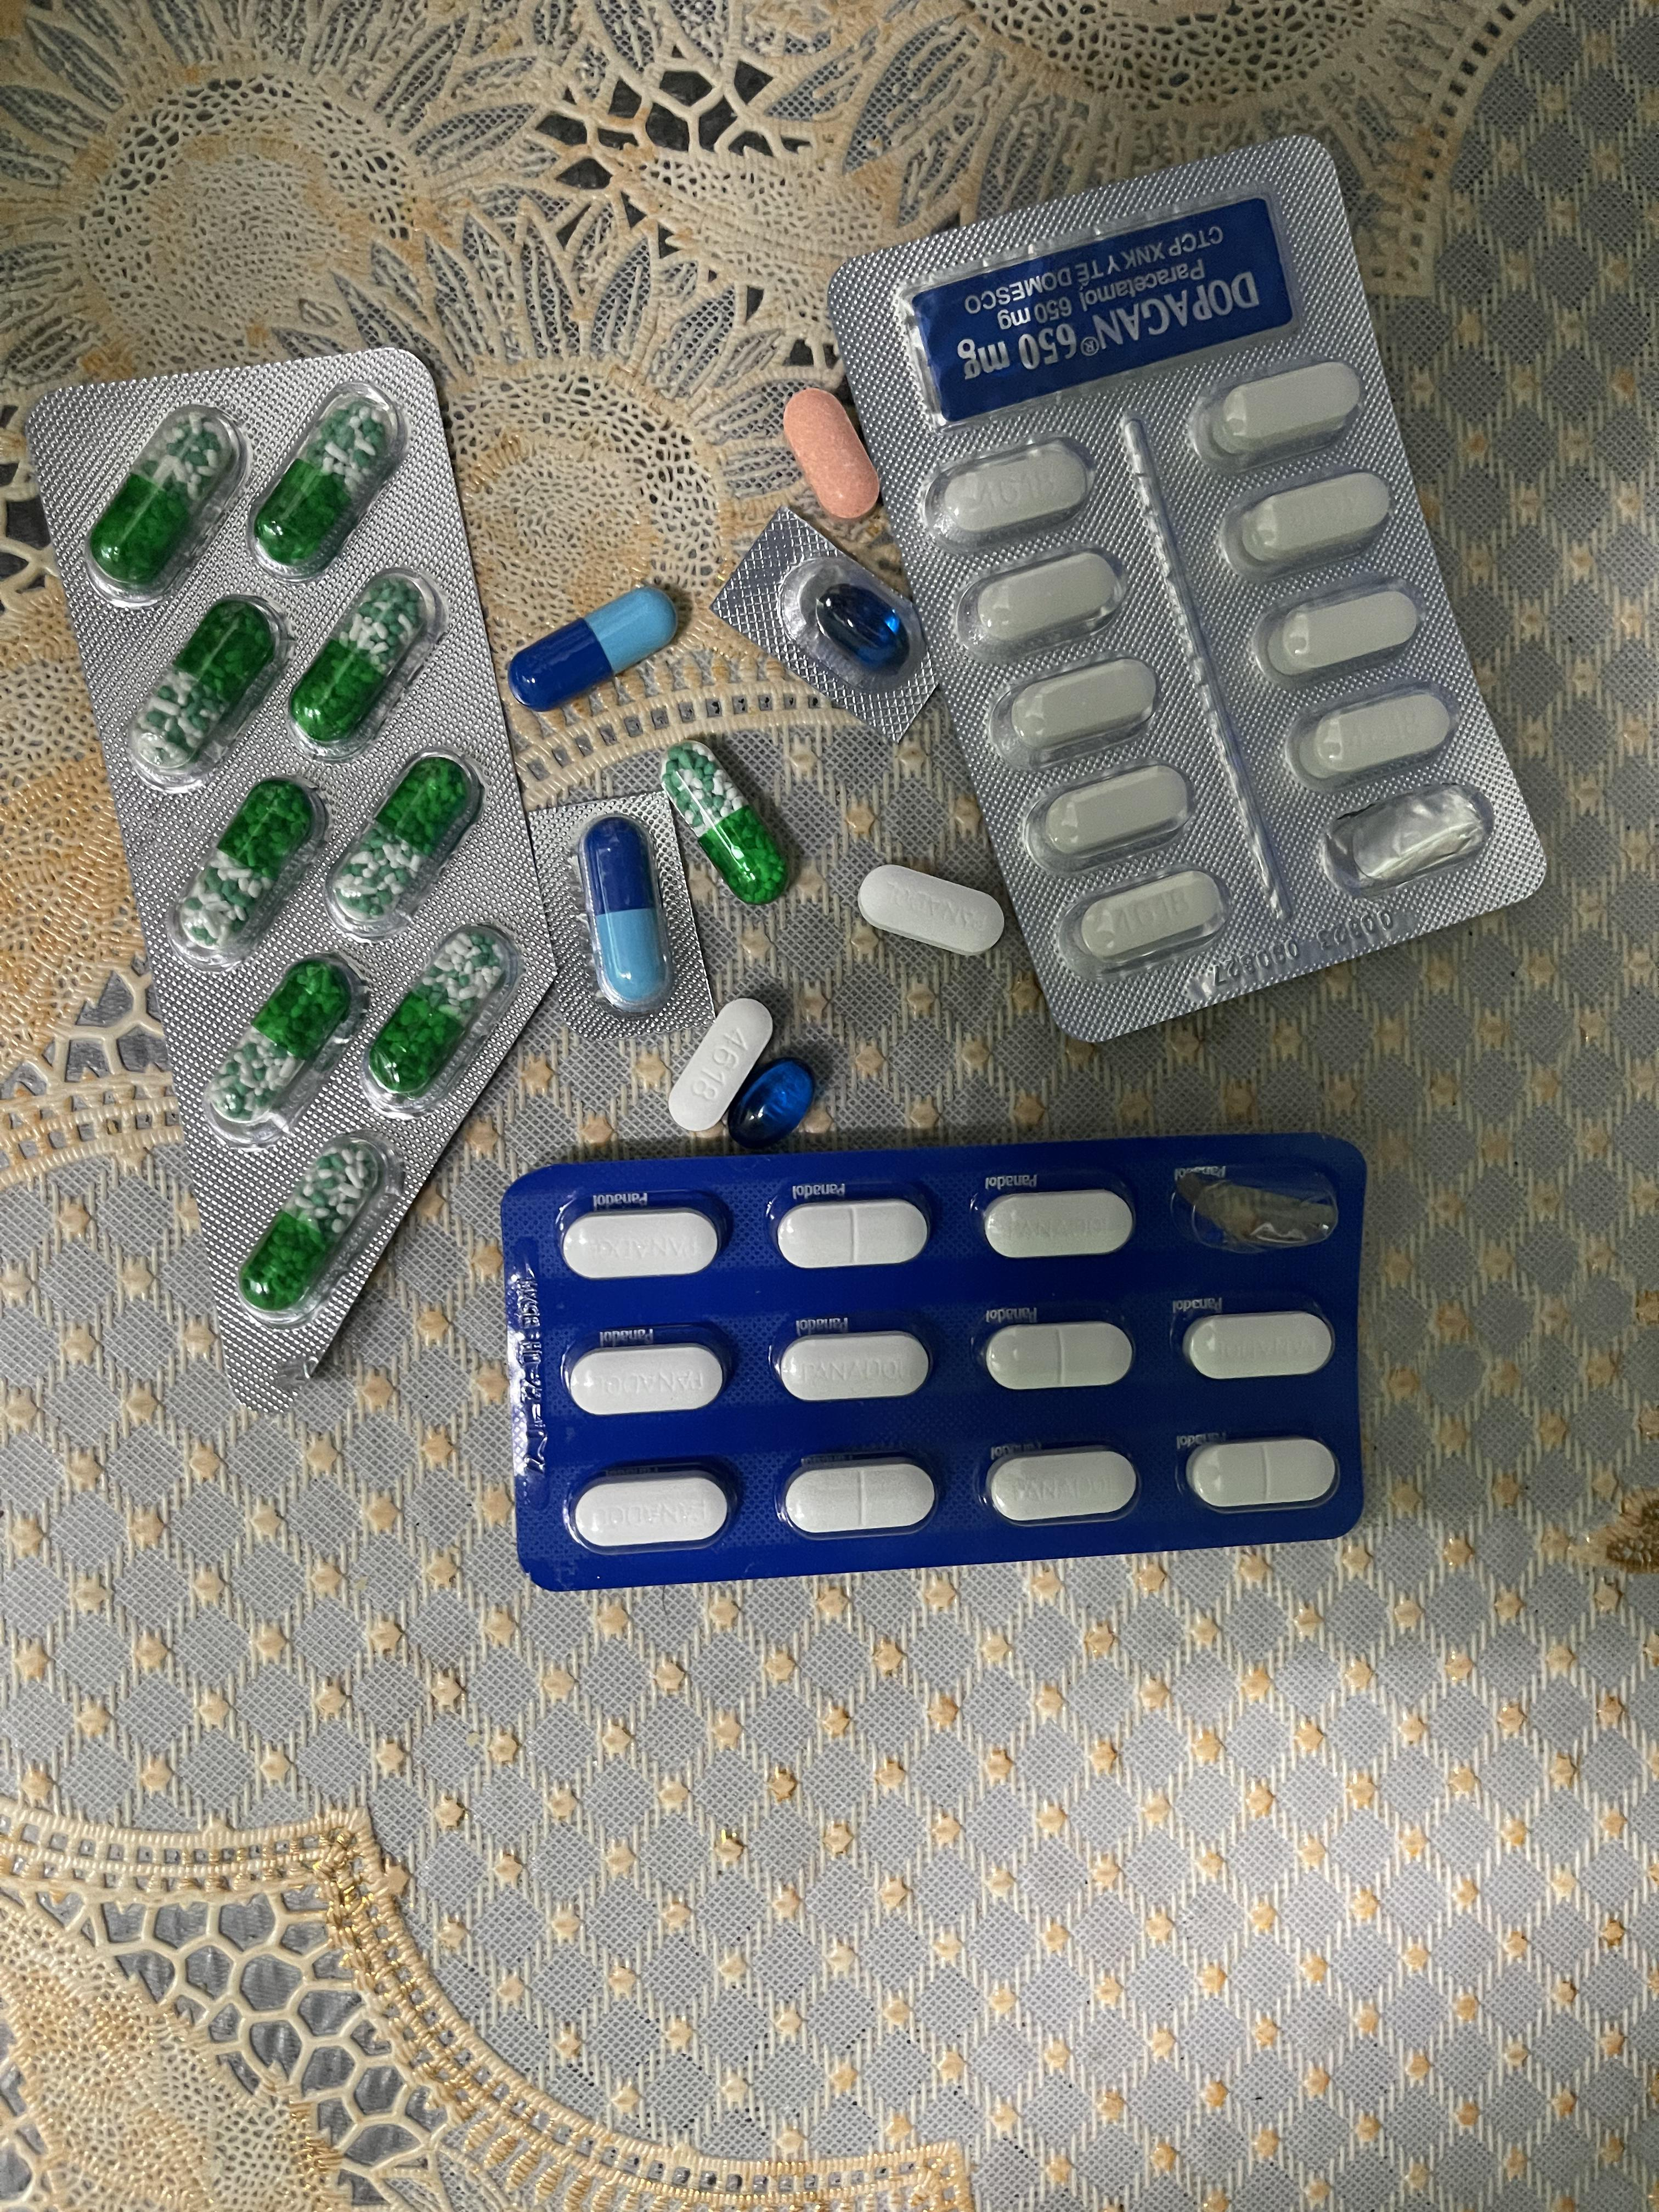Lincomyxin_500mg: (723, 1057, 817, 1150), (812, 582, 910, 669)
Loratadine_10mg: (781, 388, 880, 523)
Paracetamol_350mg: (570, 1463, 741, 1554), (857, 862, 1002, 958), (784, 1454, 945, 1538), (559, 1204, 730, 1280), (565, 1341, 732, 1418), (983, 1446, 1140, 1526), (1185, 1435, 1342, 1514), (777, 1195, 931, 1270), (775, 1331, 931, 1404), (979, 1188, 1138, 1259), (1182, 1308, 1335, 1381), (981, 1320, 1133, 1392)
Paracetamol_500mg: (1223, 467, 1396, 580), (988, 653, 1152, 768), (1019, 759, 1185, 873), (925, 434, 1091, 547), (1255, 578, 1424, 686), (1054, 871, 1220, 981), (1288, 683, 1457, 789), (962, 543, 1122, 655), (1202, 357, 1363, 462), (662, 991, 775, 1136)
Paracetamol_650mg: (82, 402, 244, 601), (122, 592, 286, 787), (322, 752, 479, 944), (282, 571, 439, 763), (199, 956, 364, 1137), (362, 935, 521, 1123), (249, 381, 403, 575), (167, 777, 326, 963), (230, 1151, 396, 1329), (666, 740, 788, 902)
pill: (509, 583, 687, 711), (577, 819, 676, 1014)
